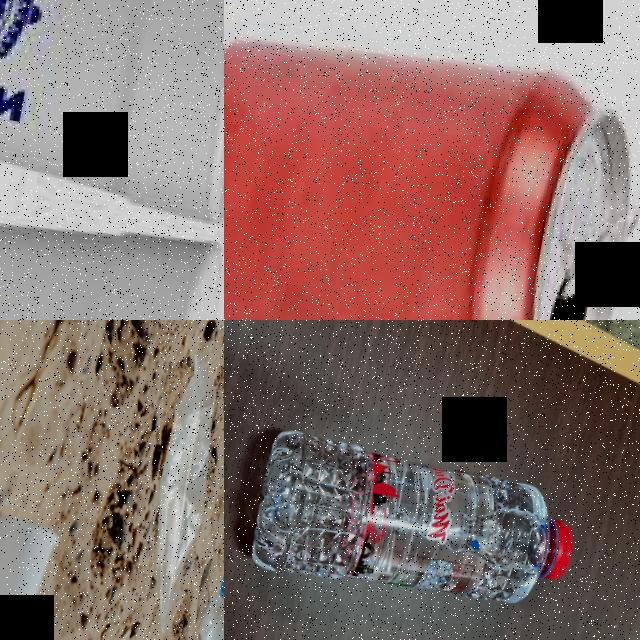bottle: (249, 416, 585, 626)
can: (224, 8, 640, 320)
cup: (0, 0, 224, 230), (0, 140, 224, 320)
